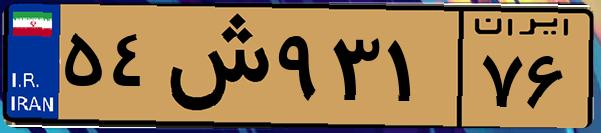1: (385, 28, 445, 110)
3: (330, 28, 385, 110)
4: (110, 28, 158, 98)
5: (57, 26, 110, 100)
6: (525, 38, 570, 115)
7: (475, 38, 525, 113)
9: (270, 28, 330, 110)
ش: (158, 12, 270, 120)
